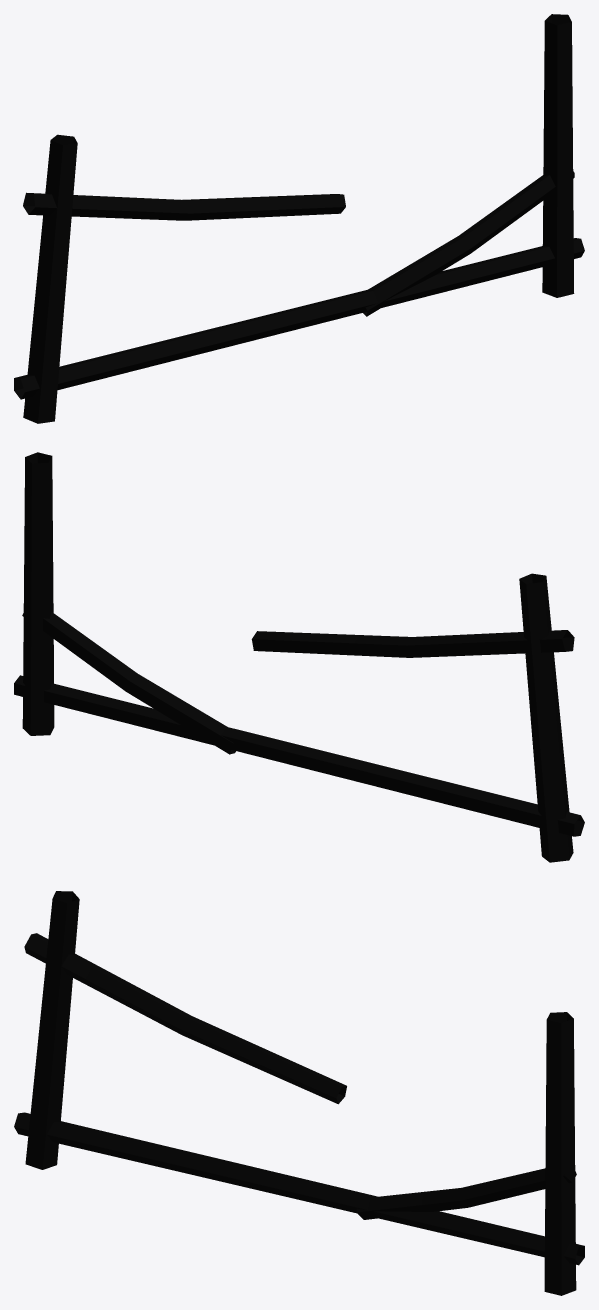
The model's file is SM_fence_broken.fbx.
The picture shows the model from 3 angles, top to bottom: view 1: azimuth 30°, elevation 25°; view 2: azimuth 150°, elevation 25°; view 3: azimuth 330°, elevation 25°; orthographic projection.
Visible parts, largest first — view 1: fence_broken; view 2: fence_broken; view 3: fence_broken.
Part boxes in pixels (box(x1,y1,x2,y2)): fence_broken: box(14, 14, 584, 423); fence_broken: box(14, 452, 584, 862); fence_broken: box(14, 891, 584, 1295).
Size of the model in its own units: 2.7 by 1.26 by 0.1266.
